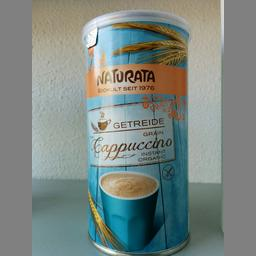coffee: (79, 8, 192, 255)
